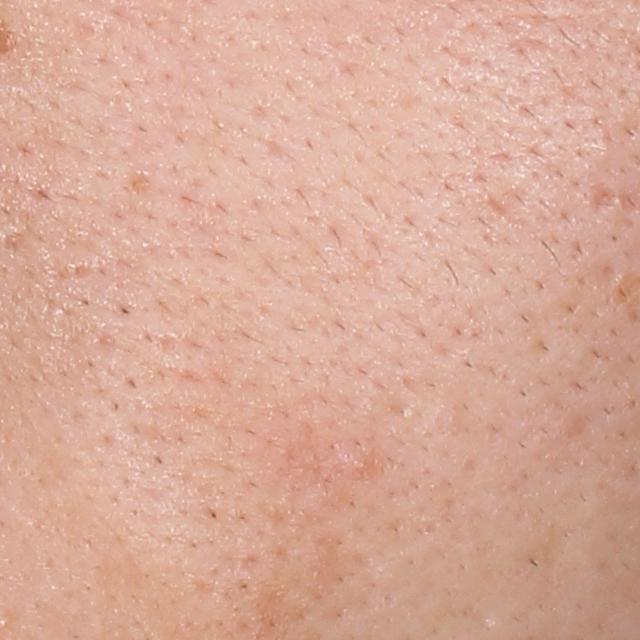atrophic_scar: (591, 182, 614, 209)
comedo: (342, 447, 377, 479)
